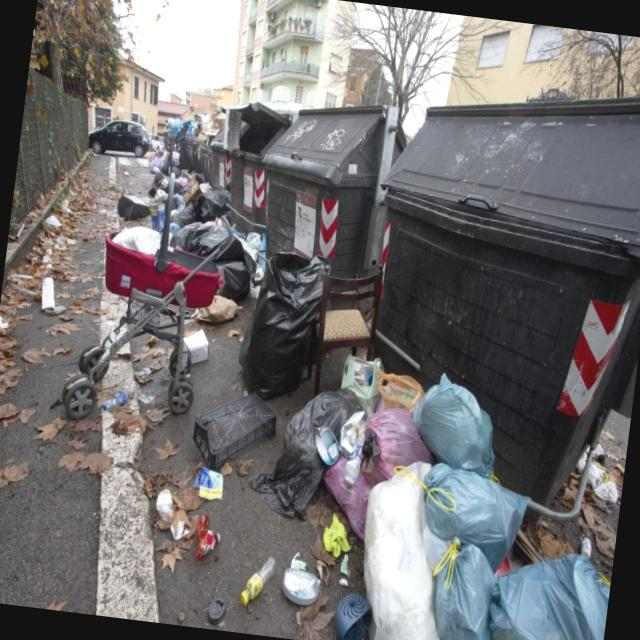garbage: (206, 244, 640, 640), (91, 122, 266, 446)
